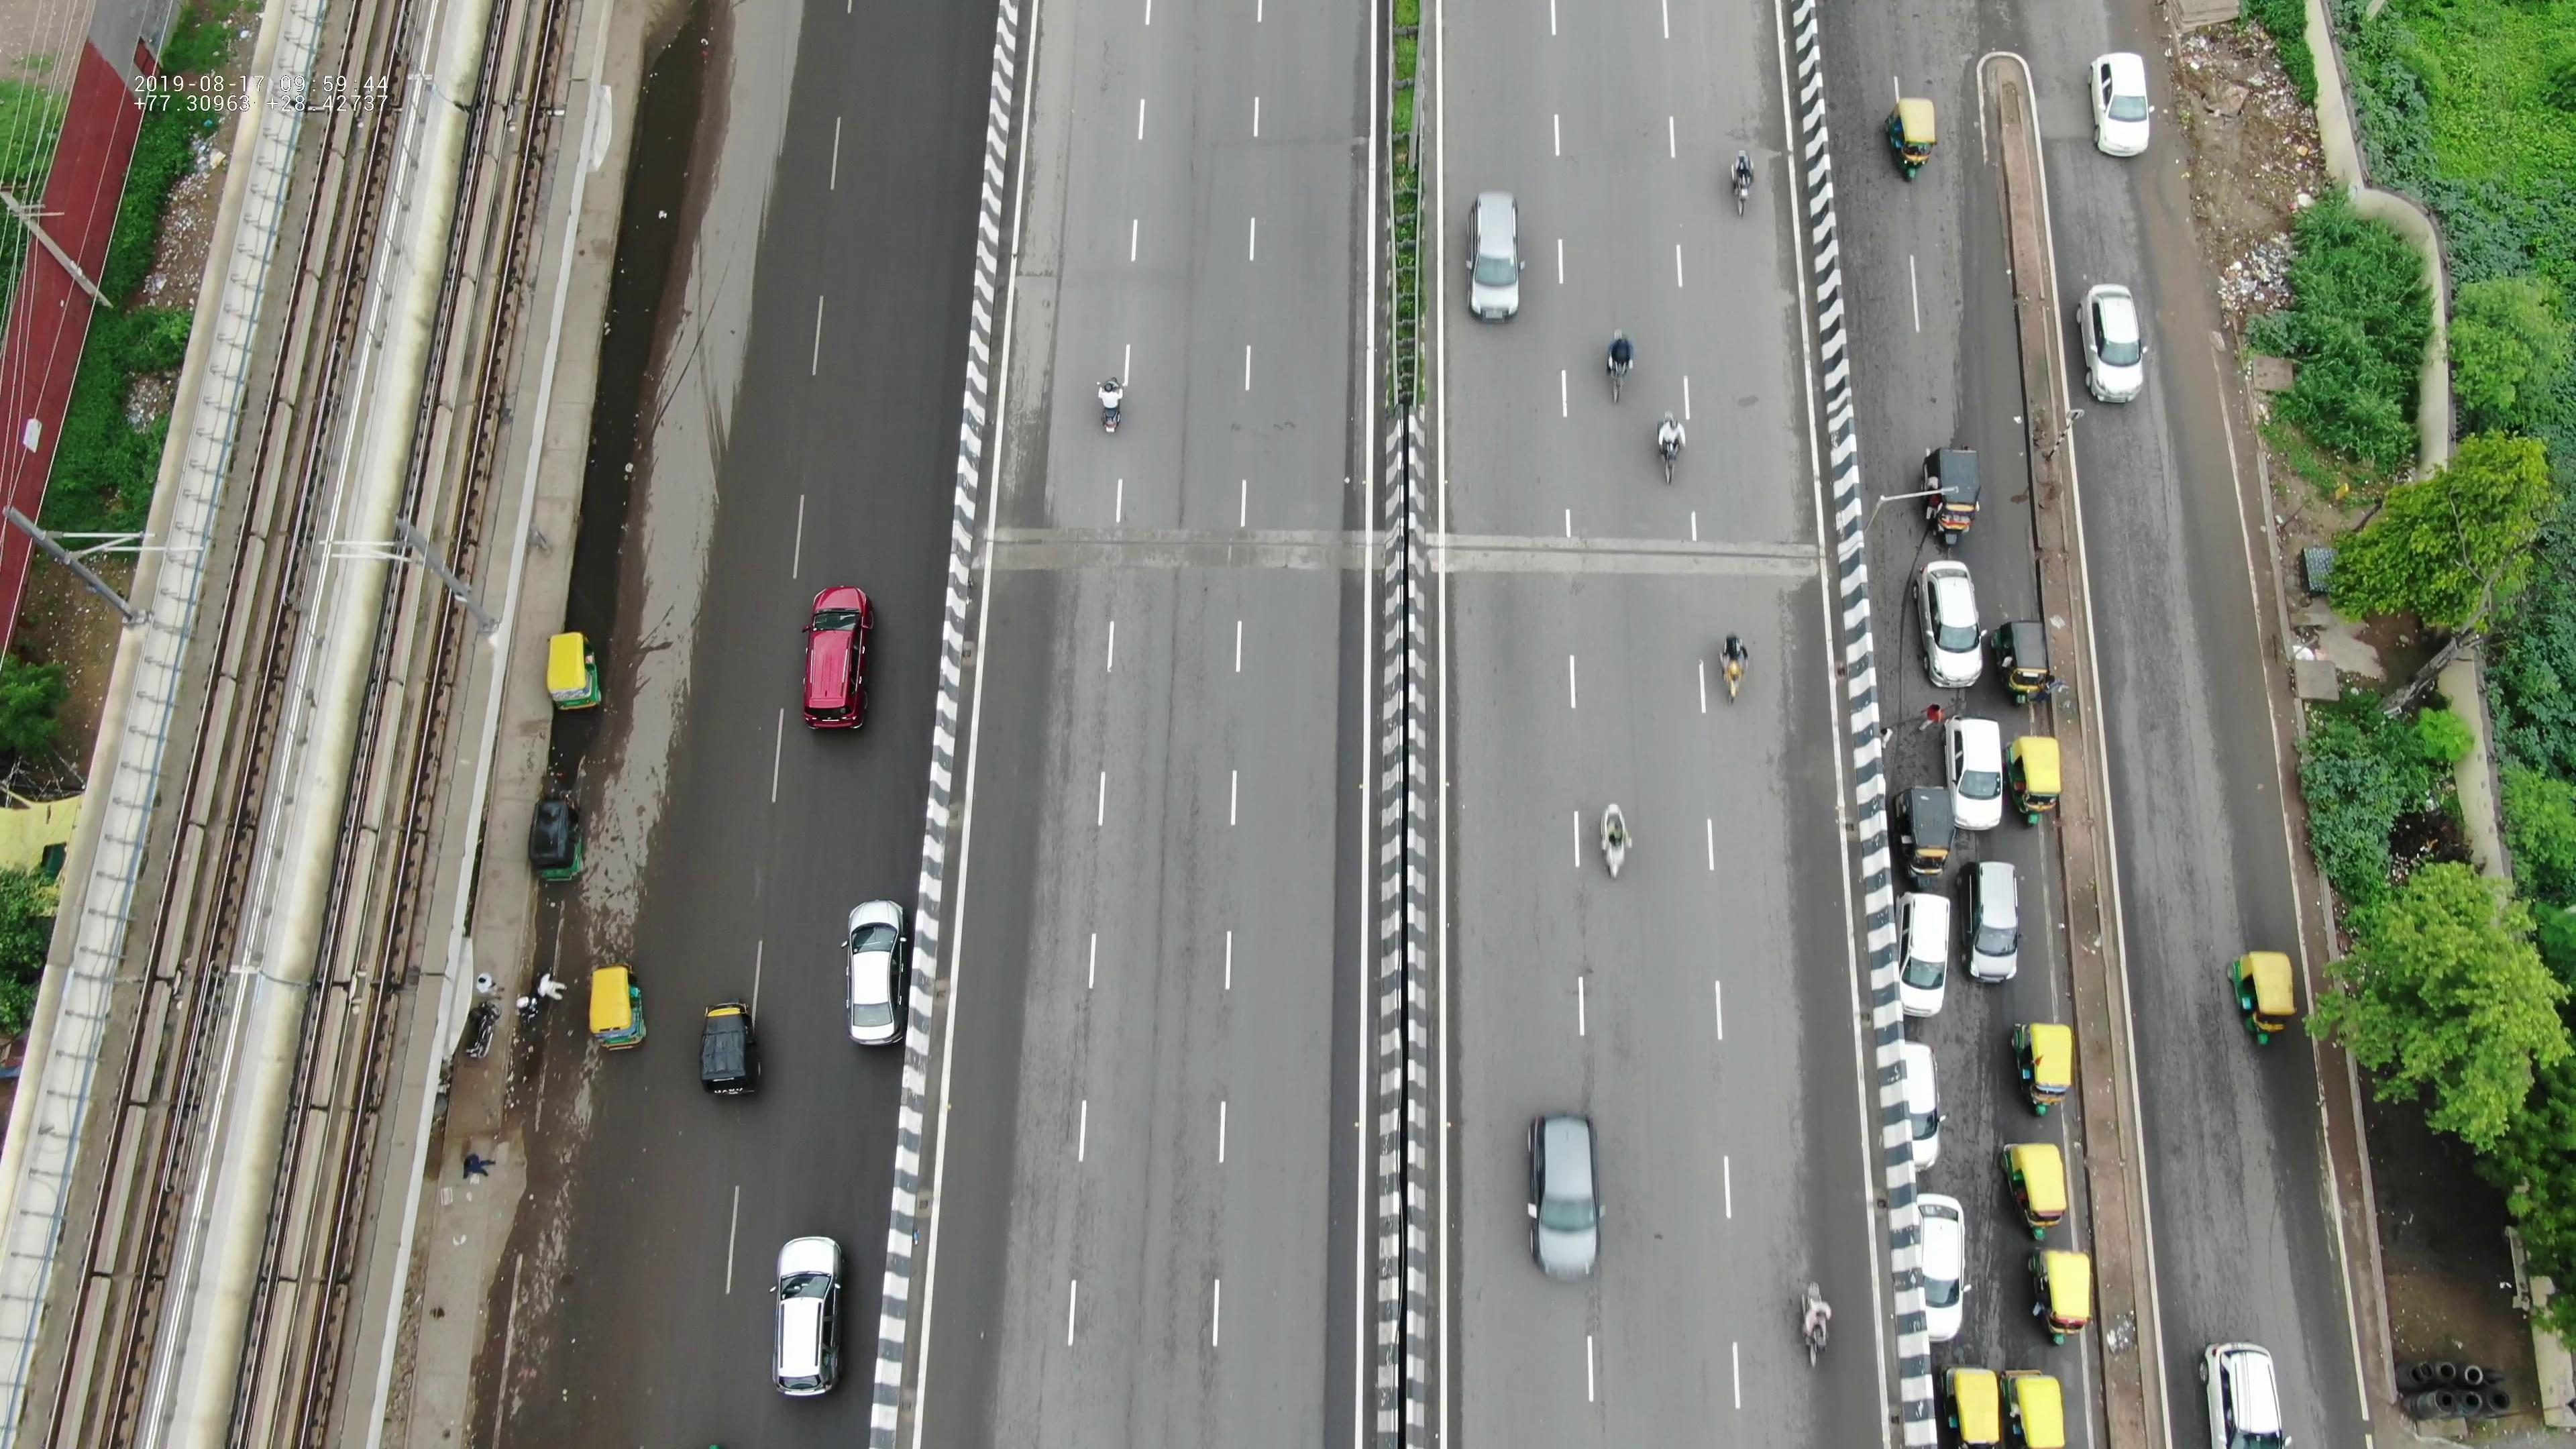Road_side_garbage: (2166, 19, 2337, 299)
Waterlogging: (603, 18, 731, 315), (2146, 262, 2266, 495), (1955, 159, 2047, 446), (575, 441, 642, 536), (591, 336, 665, 421), (566, 550, 630, 630), (517, 915, 579, 977)
